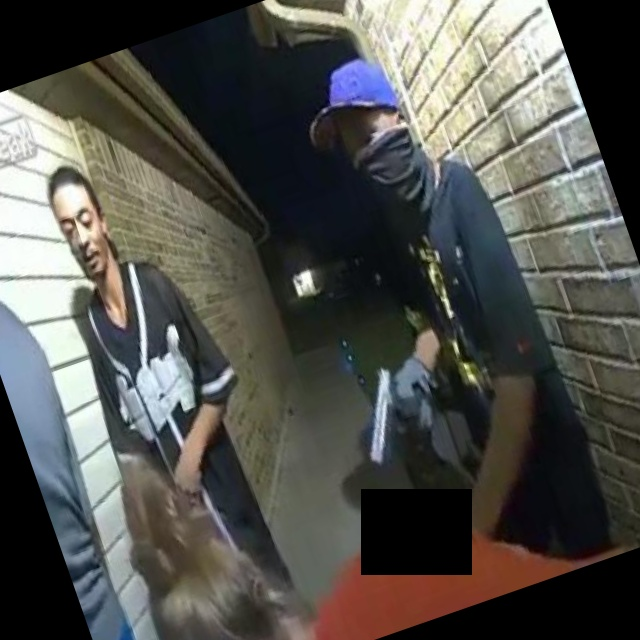gun: (330, 344, 454, 492)
